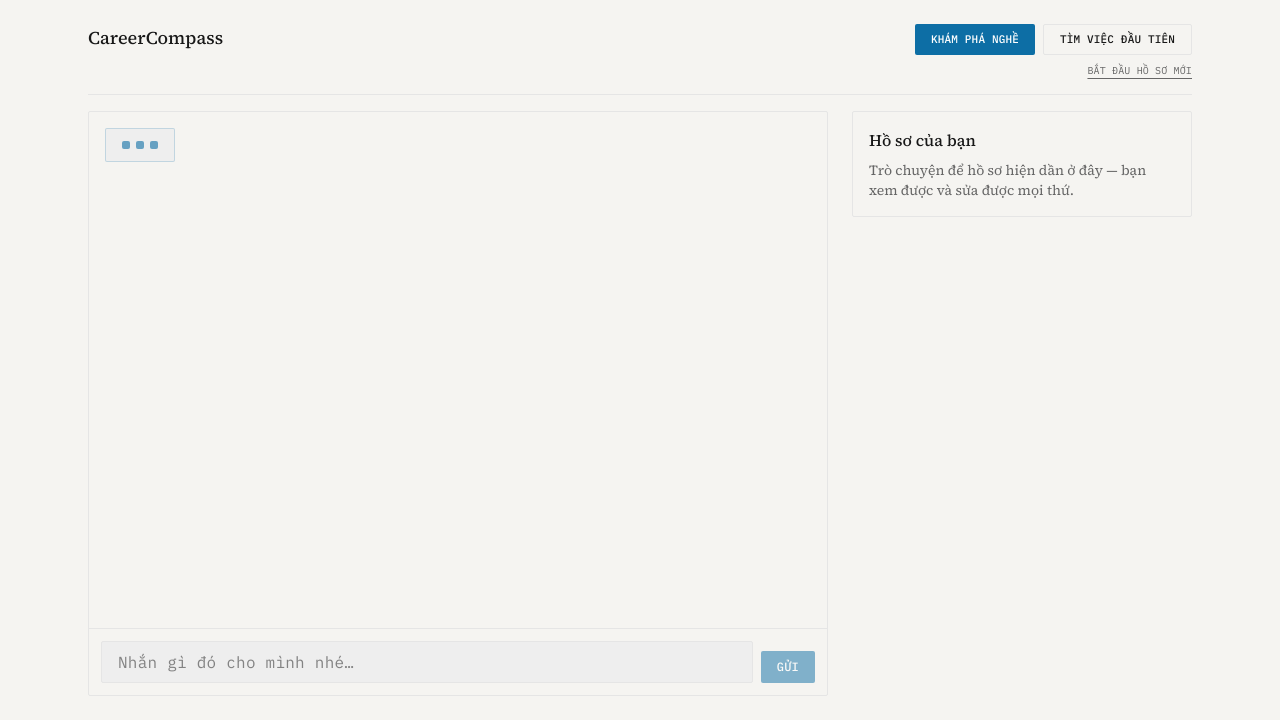
Test case: ExploreClient request lifecycle › bỏ response cũ nếu user đổi journey trong lúc opening request còn chạy
Click the button "Tìm việc đầu tiên" at (1118, 39), box top-left (1043, 24), bottom-right (1192, 54)
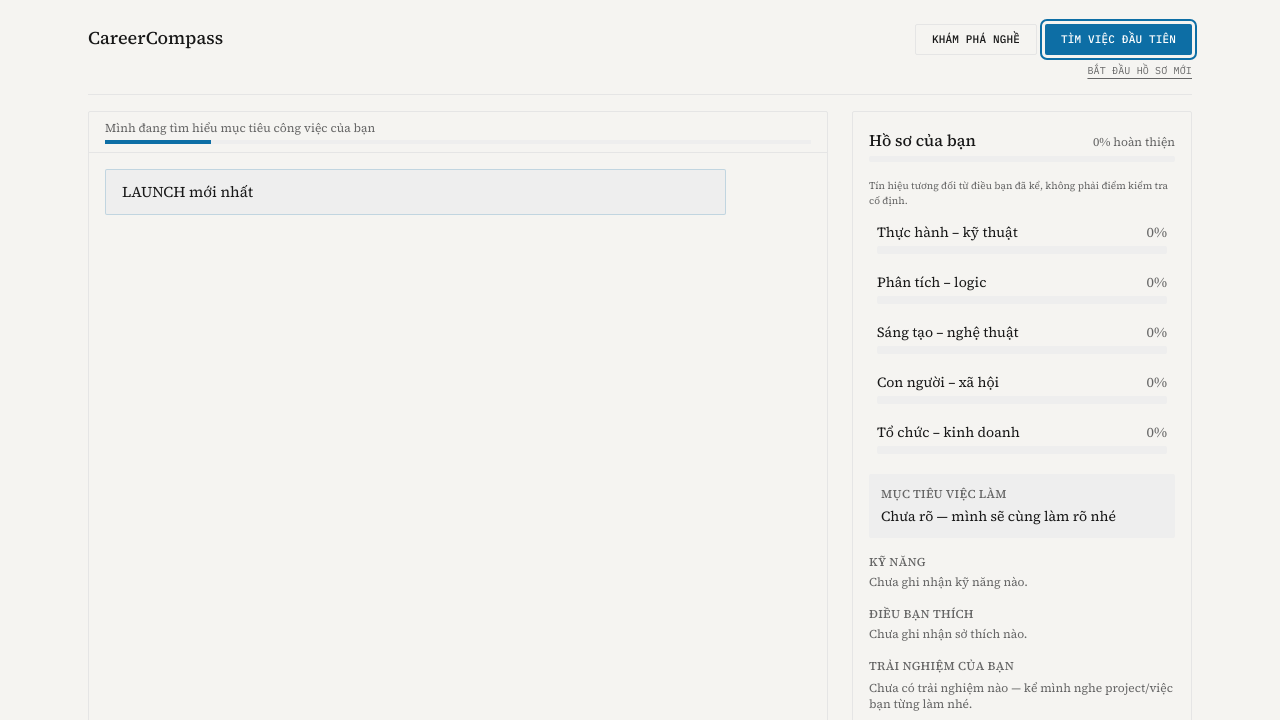
Expected: the text "LAUNCH mới nhất" is shown, top-left (105, 168), bottom-right (726, 215)
